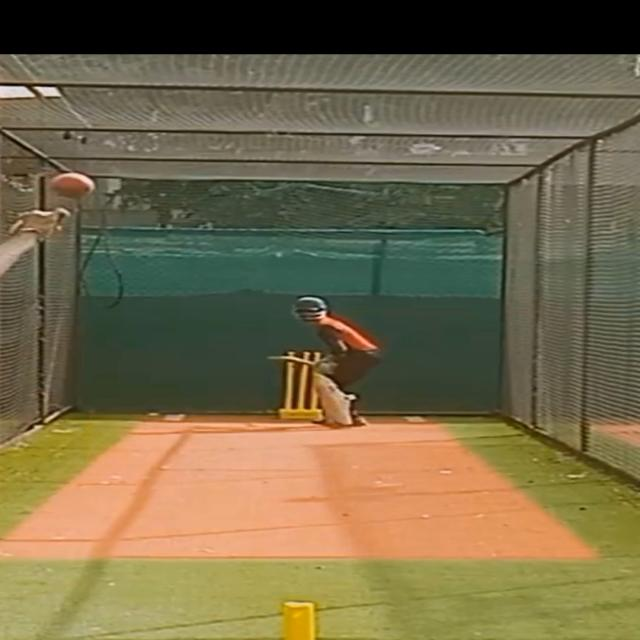ball: (46, 171, 96, 201)
stump: (277, 349, 325, 419)
